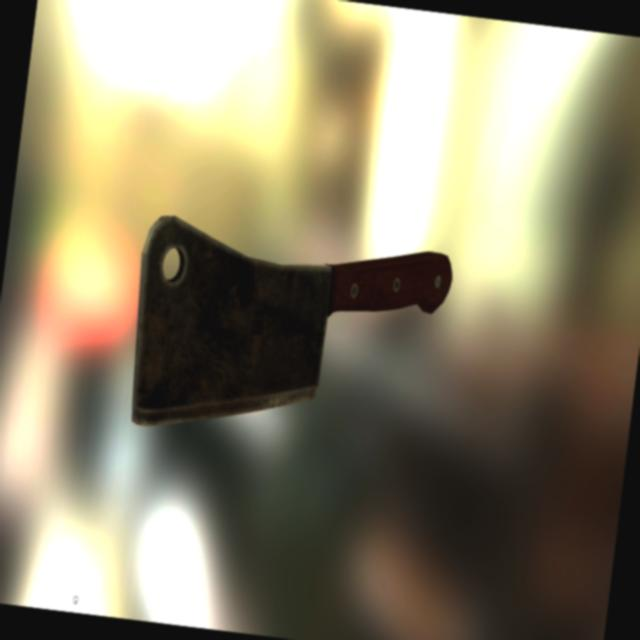cleaver: (125, 213, 455, 431)
